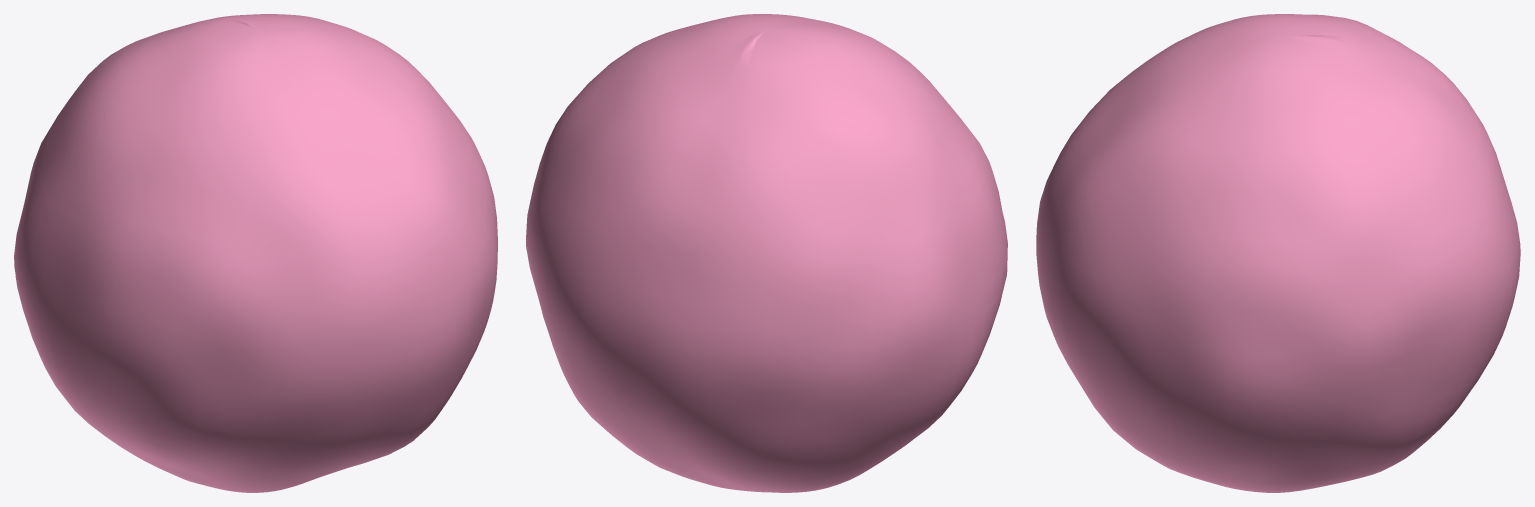
File: orb.glb
3 renders of one model, left to right at view 1: azimuth 30°, elevation 25°; view 2: azimuth 150°, elevation 25°; view 3: azimuth 270°, elevation 25°, orthographic.
Parts seen in each view (by area): view 1: orb; view 2: orb; view 3: orb.
Part boxes in pixels (x1,y1,x2,y2): orb: [14, 14, 497, 492]; orb: [526, 14, 1007, 492]; orb: [1036, 14, 1520, 492].
Bounding box in the file's own units: 2.02 × 2.03 × 2.03.
